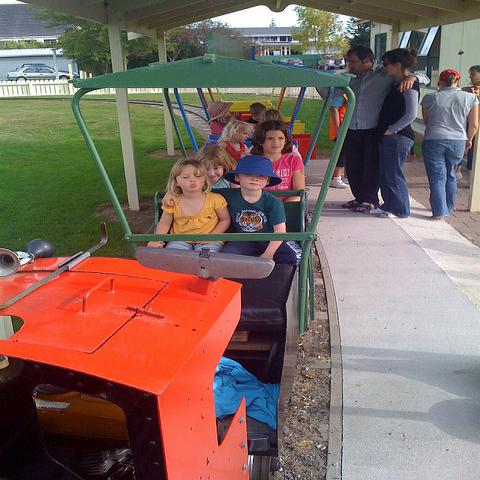car: (5, 65, 77, 81), (317, 54, 345, 70), (279, 58, 304, 67)
